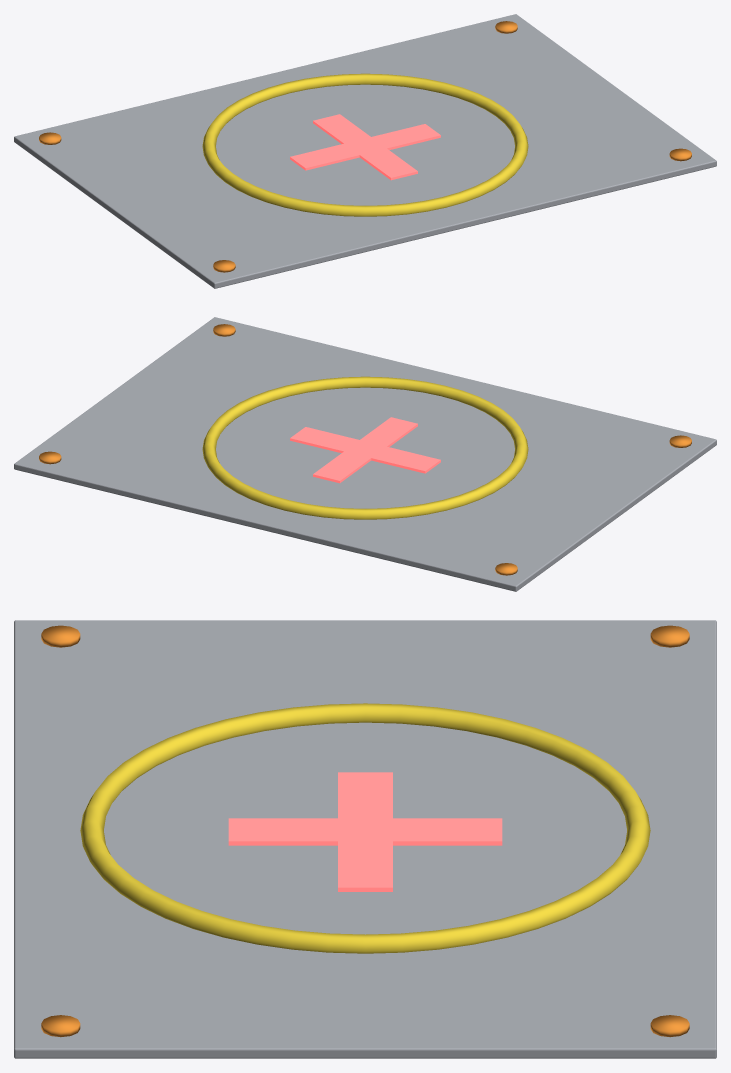
The model's file is rug_landing_pad.glb.
3 views of the same model, one above another, from view 1: azimuth 30°, elevation 25°; view 2: azimuth 150°, elevation 25°; view 3: azimuth 270°, elevation 25° (orthographic). The views are drawn at different scales.
Visible parts, largest first — view 1: GD_rug_landing_pad__m0, GD_rug_landing_pad__m1, GD_rug_landing_pad__m2, GD_rug_landing_pad__m3; view 2: GD_rug_landing_pad__m0, GD_rug_landing_pad__m1, GD_rug_landing_pad__m2, GD_rug_landing_pad__m3; view 3: GD_rug_landing_pad__m0, GD_rug_landing_pad__m1, GD_rug_landing_pad__m2, GD_rug_landing_pad__m3.
Part boxes in pixels (left/top/right/bottom): GD_rug_landing_pad__m0: left=14, top=14, right=716, bottom=288; GD_rug_landing_pad__m1: left=202, top=73, right=528, bottom=216; GD_rug_landing_pad__m2: left=290, top=114, right=440, bottom=180; GD_rug_landing_pad__m3: left=39, top=21, right=691, bottom=272; GD_rug_landing_pad__m0: left=14, top=317, right=716, bottom=591; GD_rug_landing_pad__m1: left=202, top=376, right=528, bottom=519; GD_rug_landing_pad__m2: left=290, top=417, right=440, bottom=483; GD_rug_landing_pad__m3: left=39, top=324, right=691, bottom=575; GD_rug_landing_pad__m0: left=14, top=620, right=716, bottom=1058; GD_rug_landing_pad__m1: left=80, top=703, right=650, bottom=953; GD_rug_landing_pad__m2: left=228, top=772, right=502, bottom=891; GD_rug_landing_pad__m3: left=41, top=625, right=689, bottom=1037.
Bounding box in the file's own units: 2.6 × 0.066 × 1.8.
